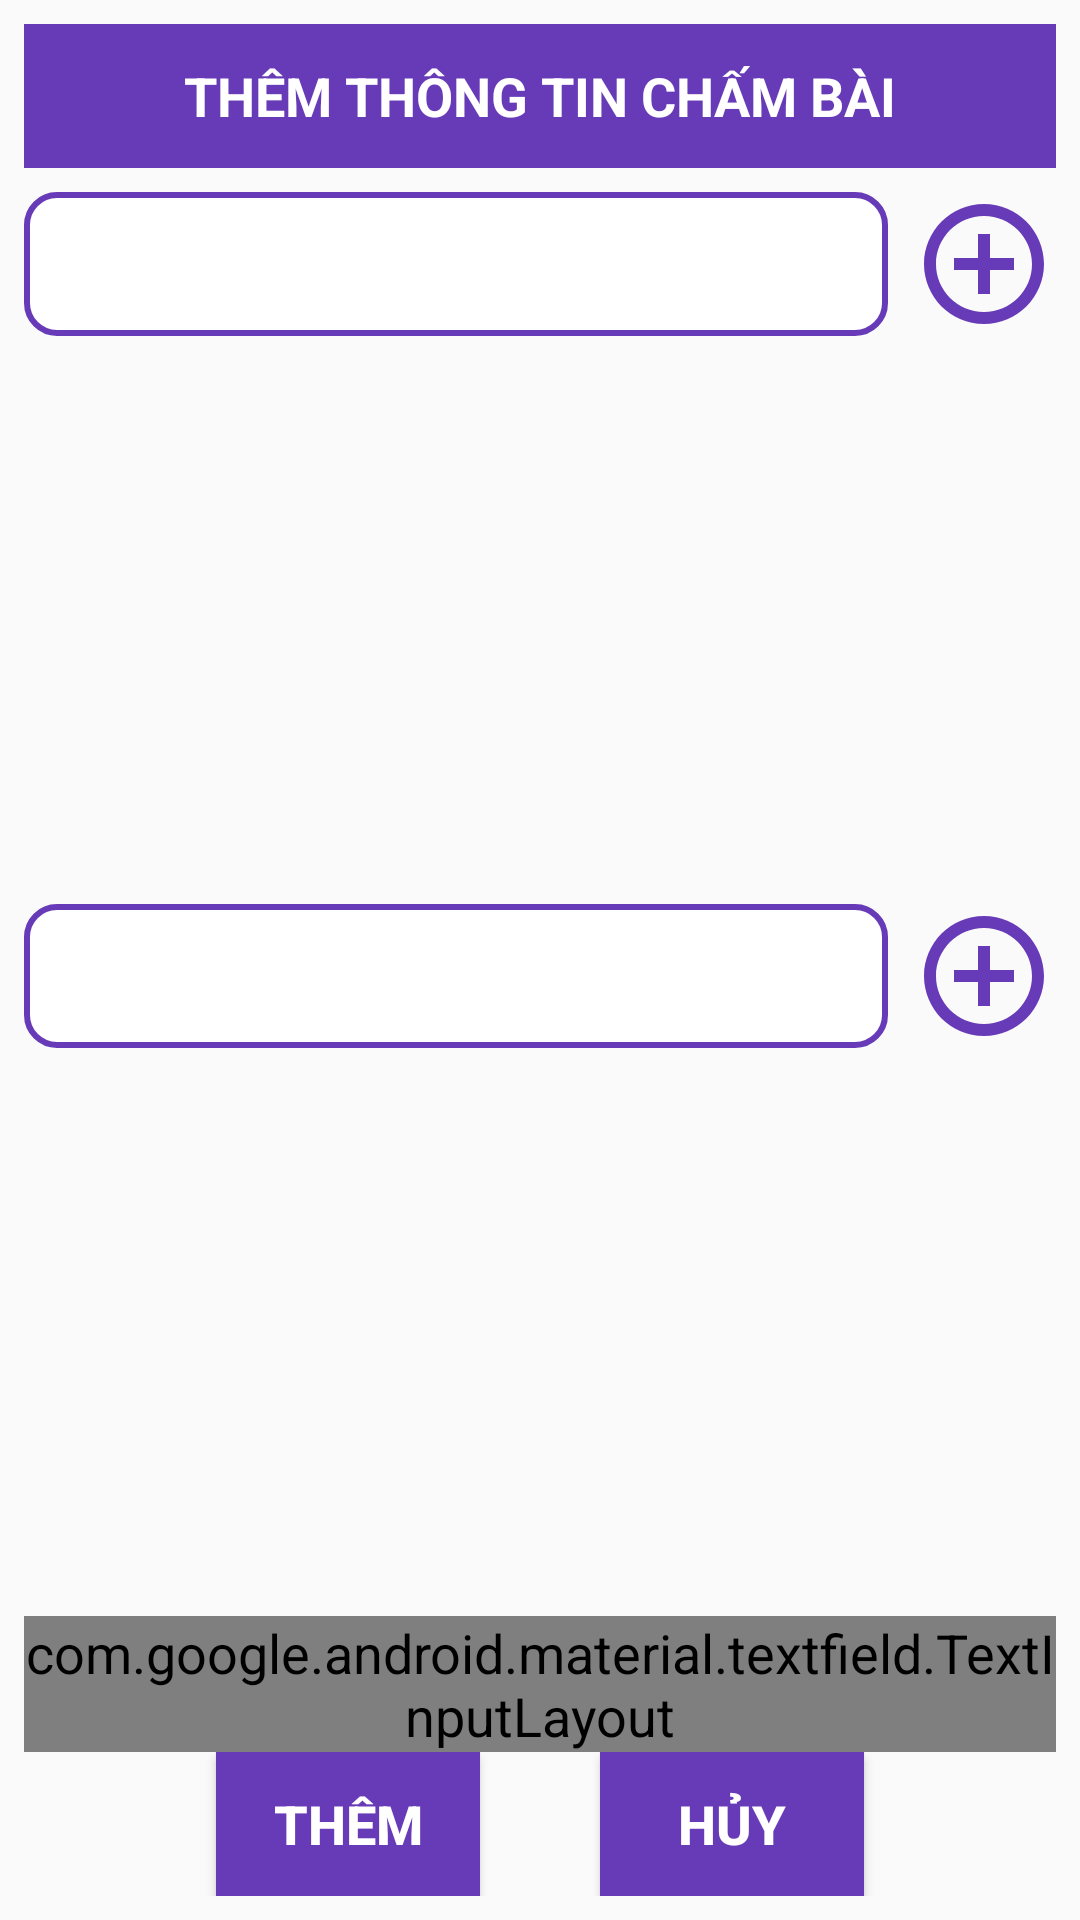

Icons on this 1080x1920 Android screen, each with the point to tap as (x,y):
add: (984,264), (984,976)
